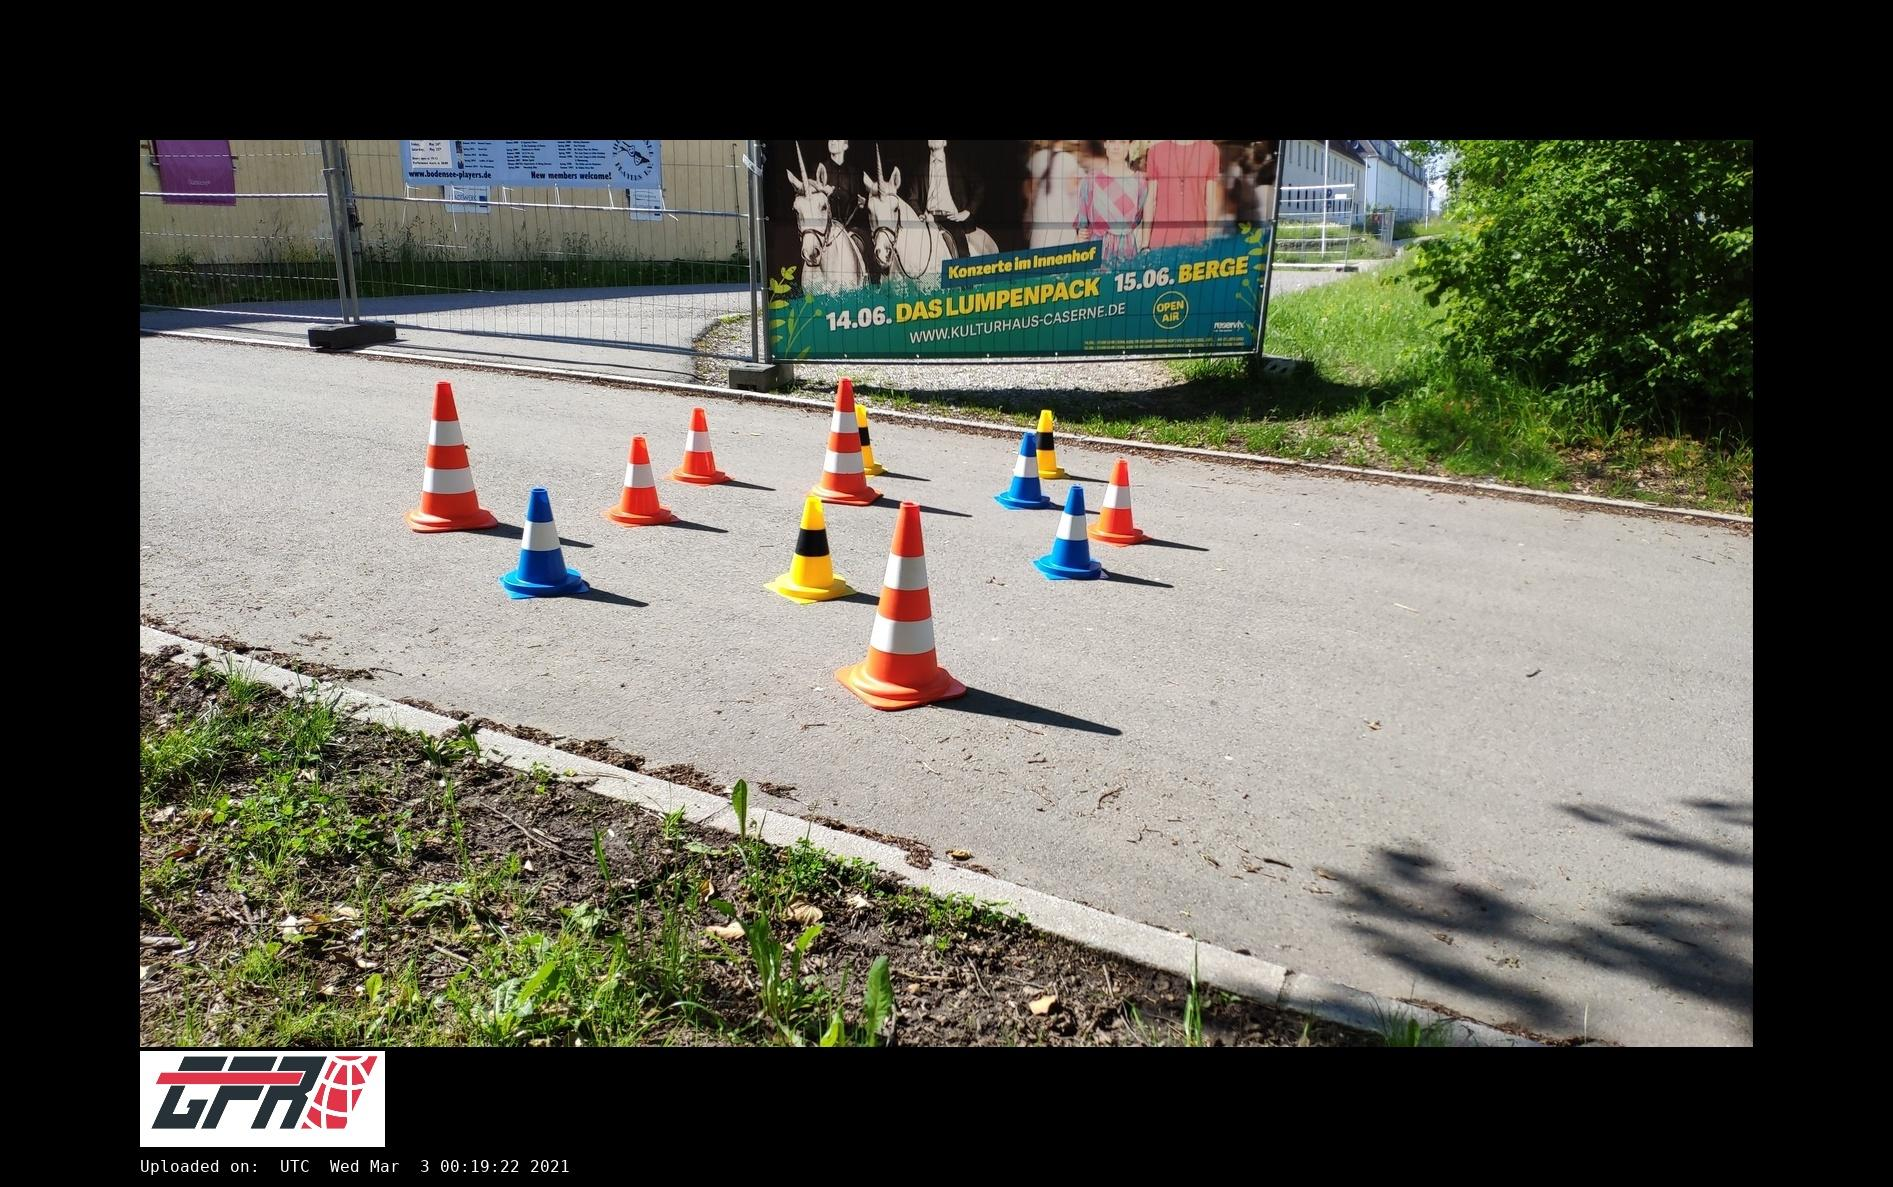blue_cone: (498, 488, 589, 600), (1033, 485, 1108, 580), (992, 432, 1057, 511)
large_orange_cone: (834, 502, 966, 711), (405, 382, 499, 533), (812, 377, 883, 506)
orange_cone: (601, 438, 681, 526), (1087, 459, 1154, 547), (666, 408, 734, 487)
yellow_cone: (764, 496, 856, 604), (1026, 410, 1066, 475), (1036, 410, 1072, 480), (856, 403, 888, 477)
